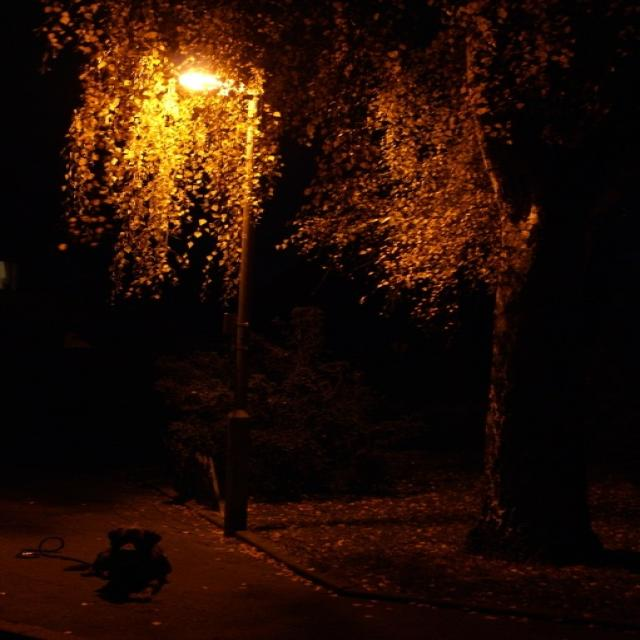dog: (57, 511, 187, 611)
